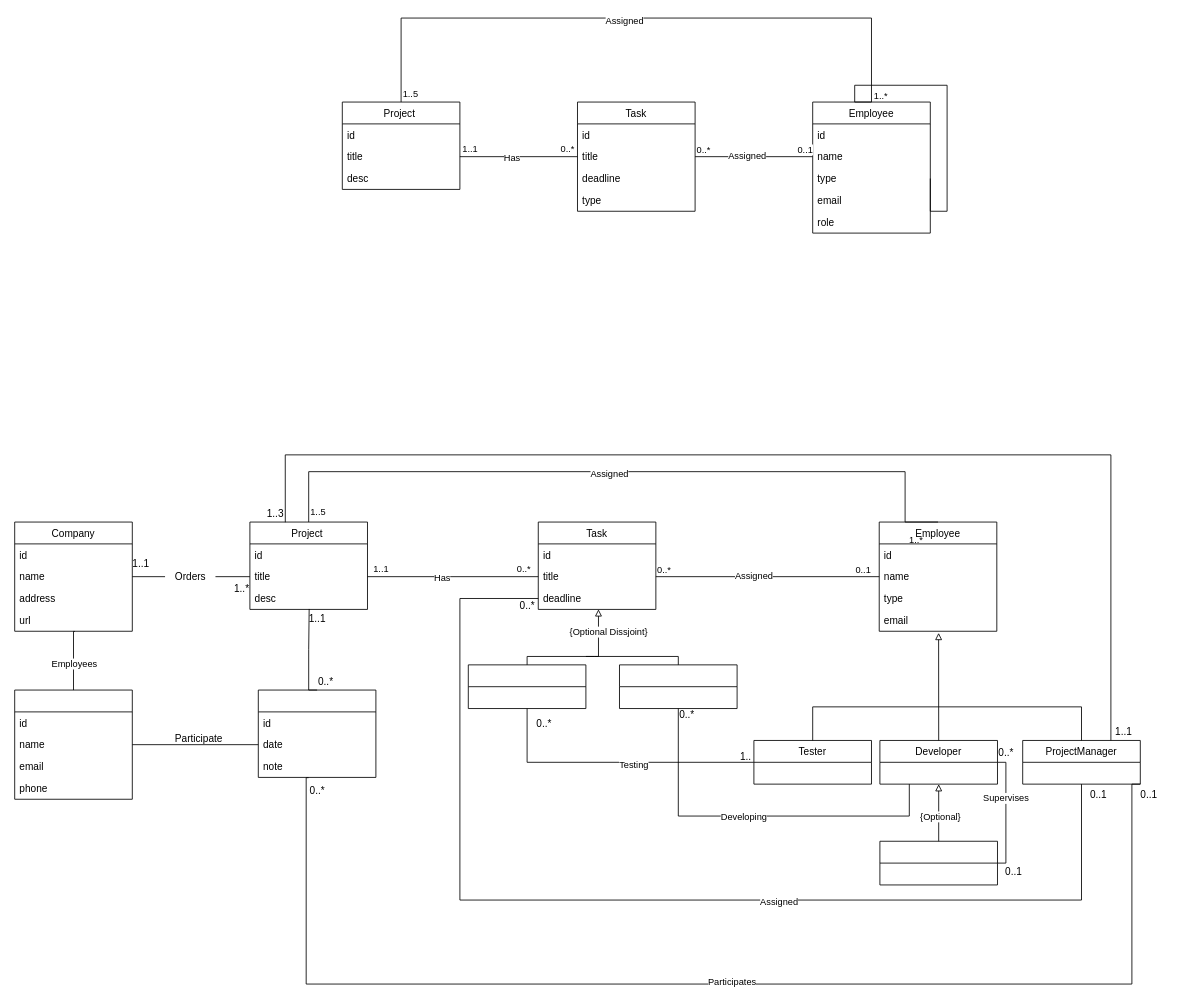
Image size: 1180x1001. Some labels were removed from this diagram. Each missing label, with the box of its shape:
ContactPerson: (14, 689, 132, 799)
DevelopmentTask: (619, 664, 737, 709)
Meeting: (257, 689, 376, 777)
SeniorDeveloper: (879, 840, 998, 885)
TestingTask: (467, 664, 586, 709)
